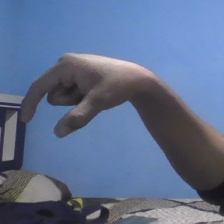Q: (17, 50, 136, 138)
